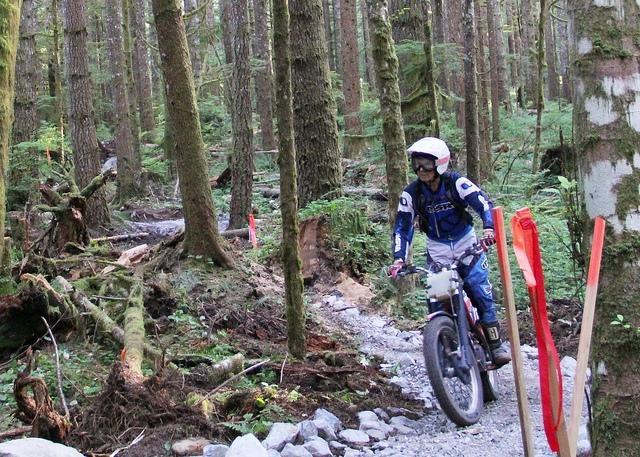motorcycle: (403, 243, 496, 428)
